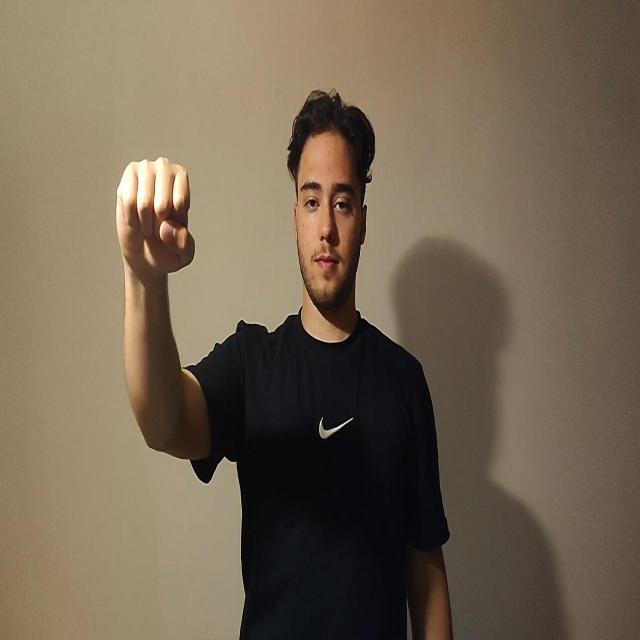yes: (115, 154, 195, 280)
